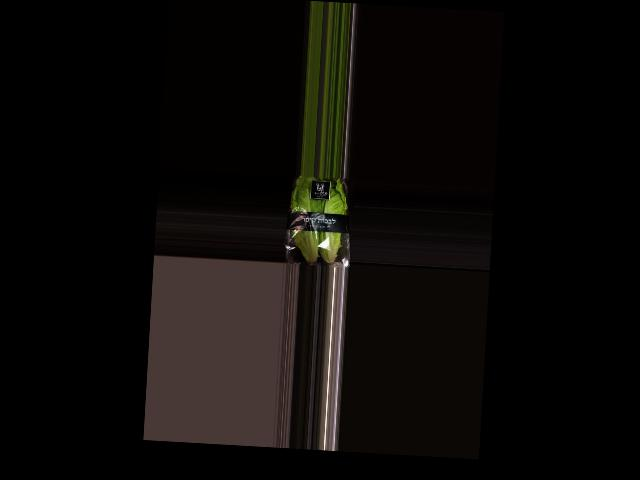lettuce: (288, 175, 354, 268)
